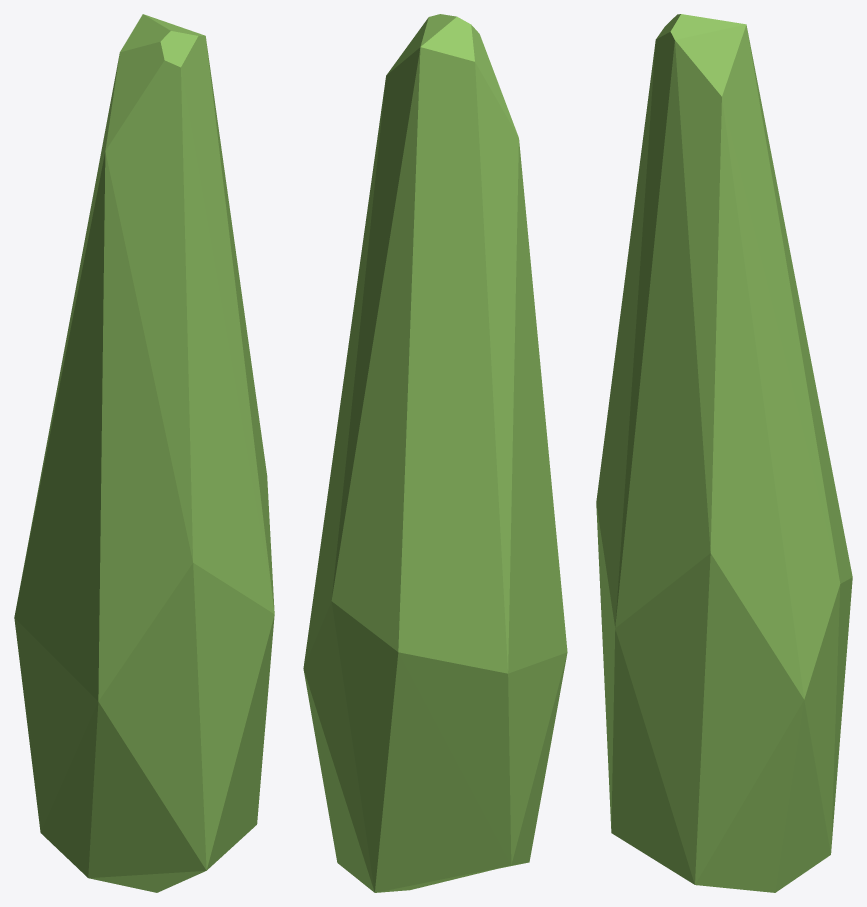
File: Thuja_BushTree_m_03_LOD.fbx
3 renders of one model, left to right at view 1: azimuth 30°, elevation 25°; view 2: azimuth 150°, elevation 25°; view 3: azimuth 270°, elevation 25°, orthographic.
Parts seen in each view (by area): view 1: Thuja_BushTree_m_03_LOD0; view 2: Thuja_BushTree_m_03_LOD0; view 3: Thuja_BushTree_m_03_LOD0.
Part boxes in pixels (<box>): Thuja_BushTree_m_03_LOD0: <box>14,14,274,892</box>; Thuja_BushTree_m_03_LOD0: <box>303,14,567,892</box>; Thuja_BushTree_m_03_LOD0: <box>596,14,852,892</box>.
Size of what is drawn, in the model's own units: 103 by 396 by 106.
